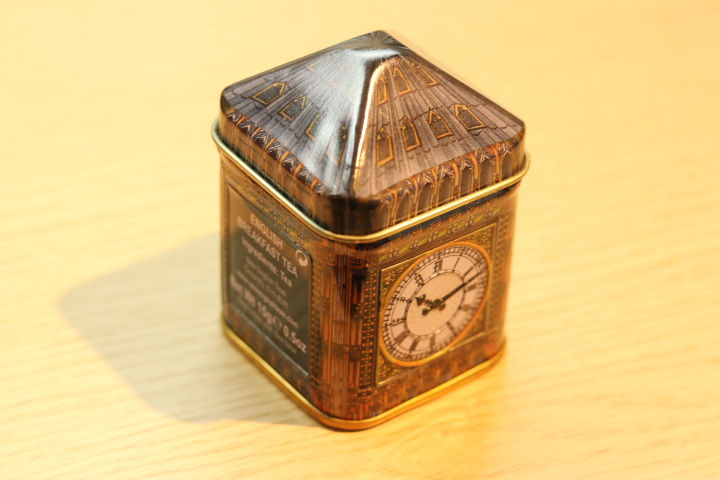Big Ben: (193, 19, 569, 442)
